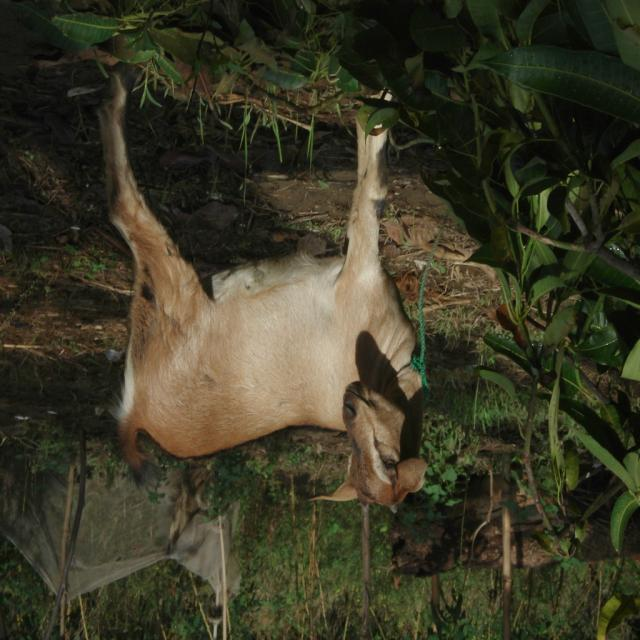Goat: (97, 66, 429, 513)
